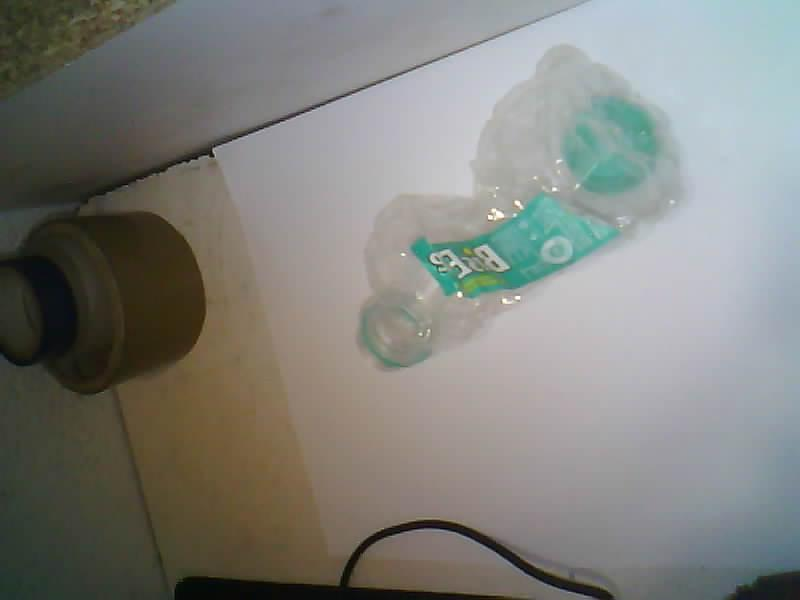non-biodegradable: (359, 46, 681, 369)
